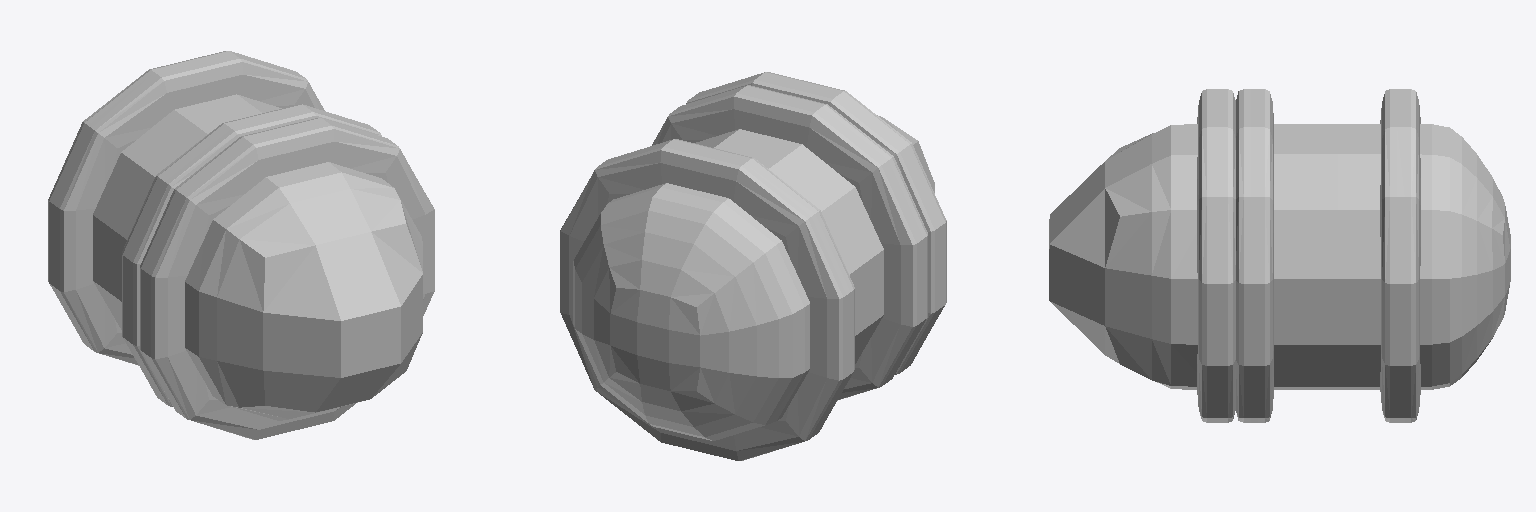
The model's file is SM EVA floodlight head.obj.
3 renders of one model, left to right at view 1: azimuth 30°, elevation 25°; view 2: azimuth 150°, elevation 25°; view 3: azimuth 270°, elevation 25°, orthographic.
Parts seen in each view (by area): view 1: Mesh; view 2: Mesh, Mesh.001; view 3: Mesh, Mesh.001.
Part boxes in pixels (x1,y1,x2,y2): Mesh: (48,51,434,439); Mesh: (560,72,946,460); Mesh.001: (575,211,778,436); Mesh: (1049,89,1461,422); Mesh.001: (1462,137,1510,376).
Bounding box in the file's own units: 0.0564 × 0.0564 × 0.0799.